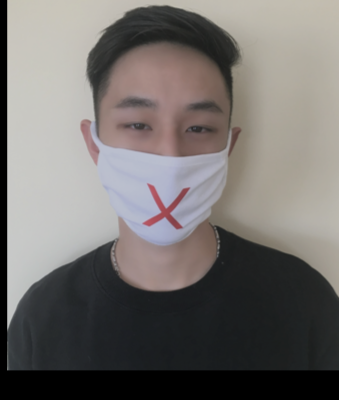with_mask: (97, 93, 231, 247)
